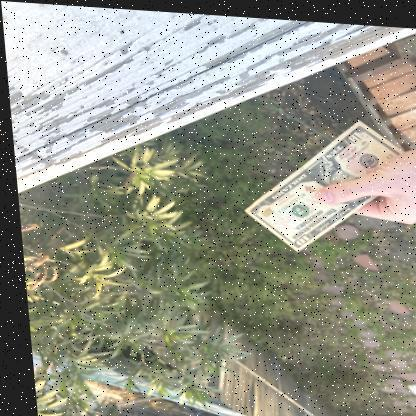ten-front: (239, 115, 415, 247)
